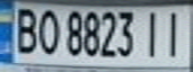2: (100, 7, 121, 58)
3: (115, 8, 142, 59)
8: (60, 7, 84, 57), (81, 7, 103, 57)
B: (9, 3, 42, 55)
I: (160, 7, 190, 58), (139, 7, 166, 58)
O: (33, 6, 60, 56)
